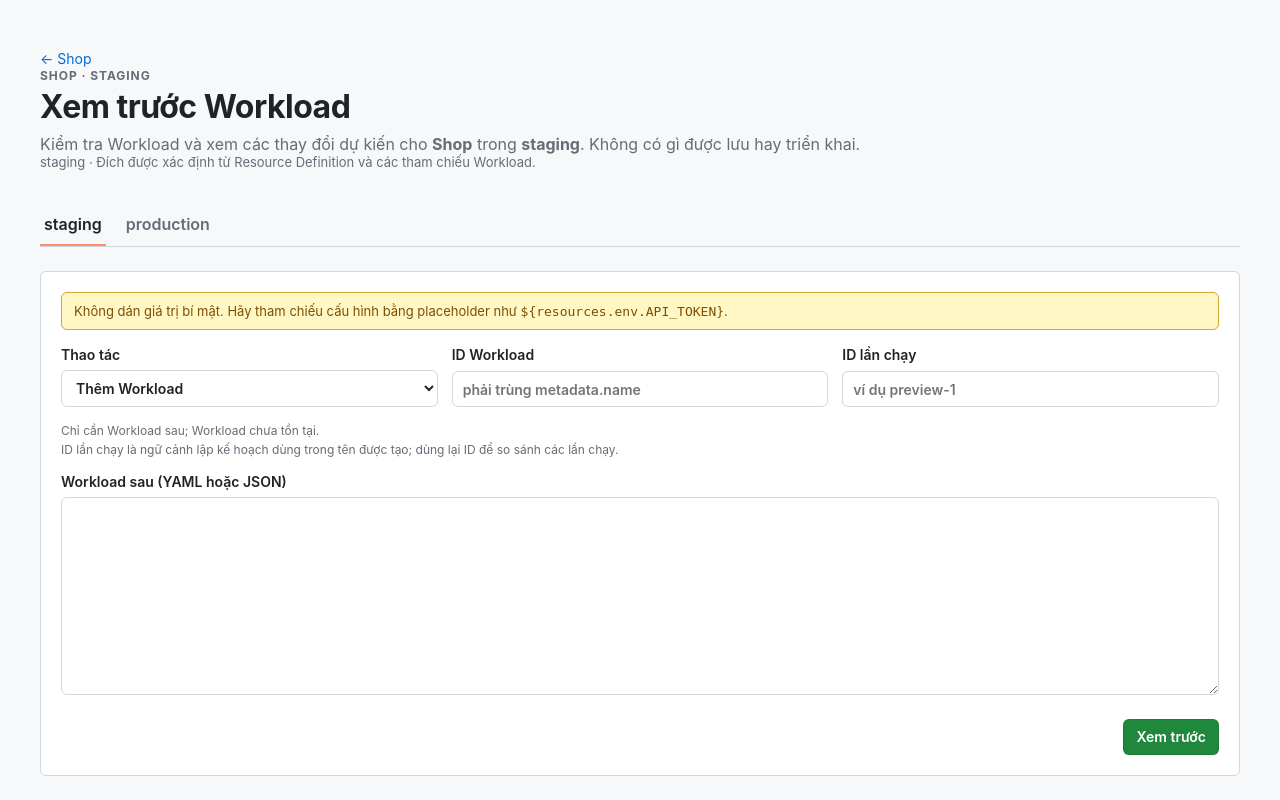
it: keeps input and blocks the request on local validation errors
This screenshot has width=1280, height=800.
Select "Cập nhật Workload" in the dropdown labelled "Thao tác" at [249, 388], box [61, 370, 438, 407]
(page scrolled)
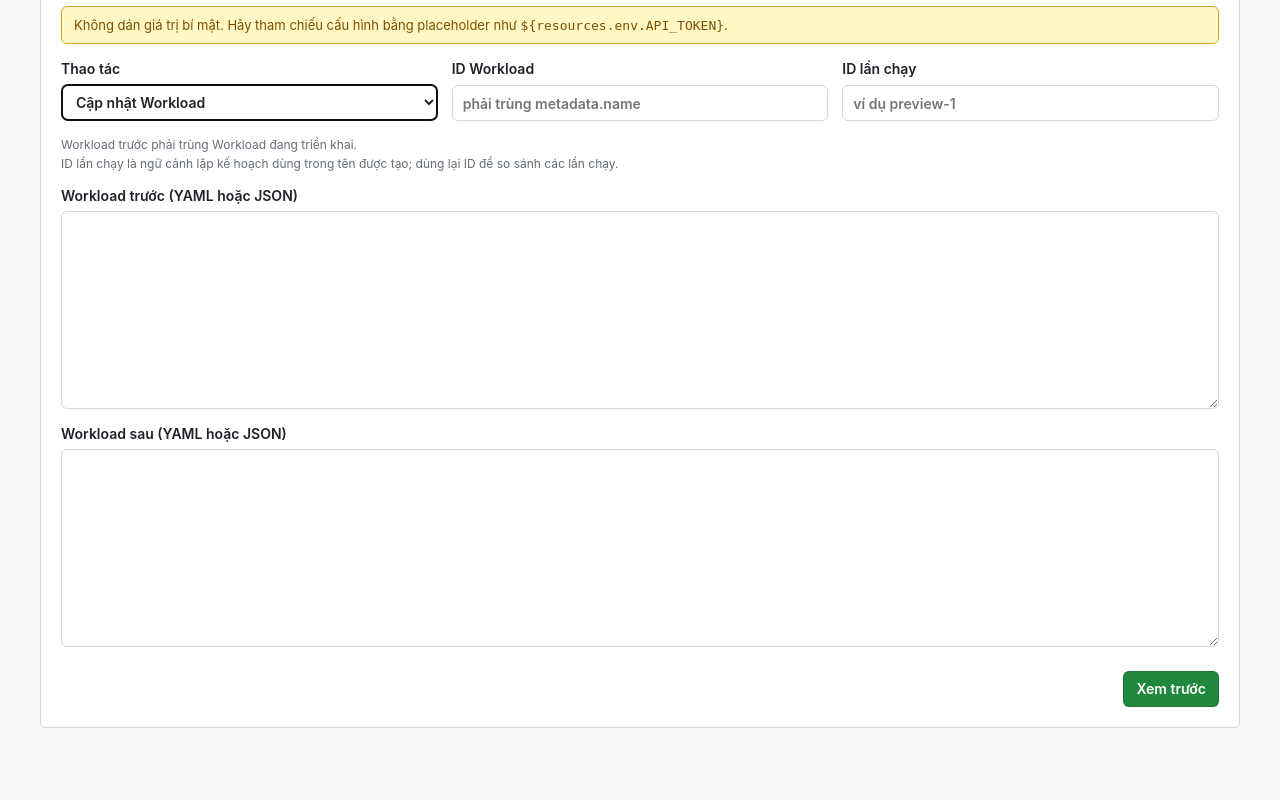
Type "containers: [" into the text box labelled "Workload sau (YAML hoặc JSON)".
click(640, 548); type("containers: [")  # box [61, 449, 1219, 647]
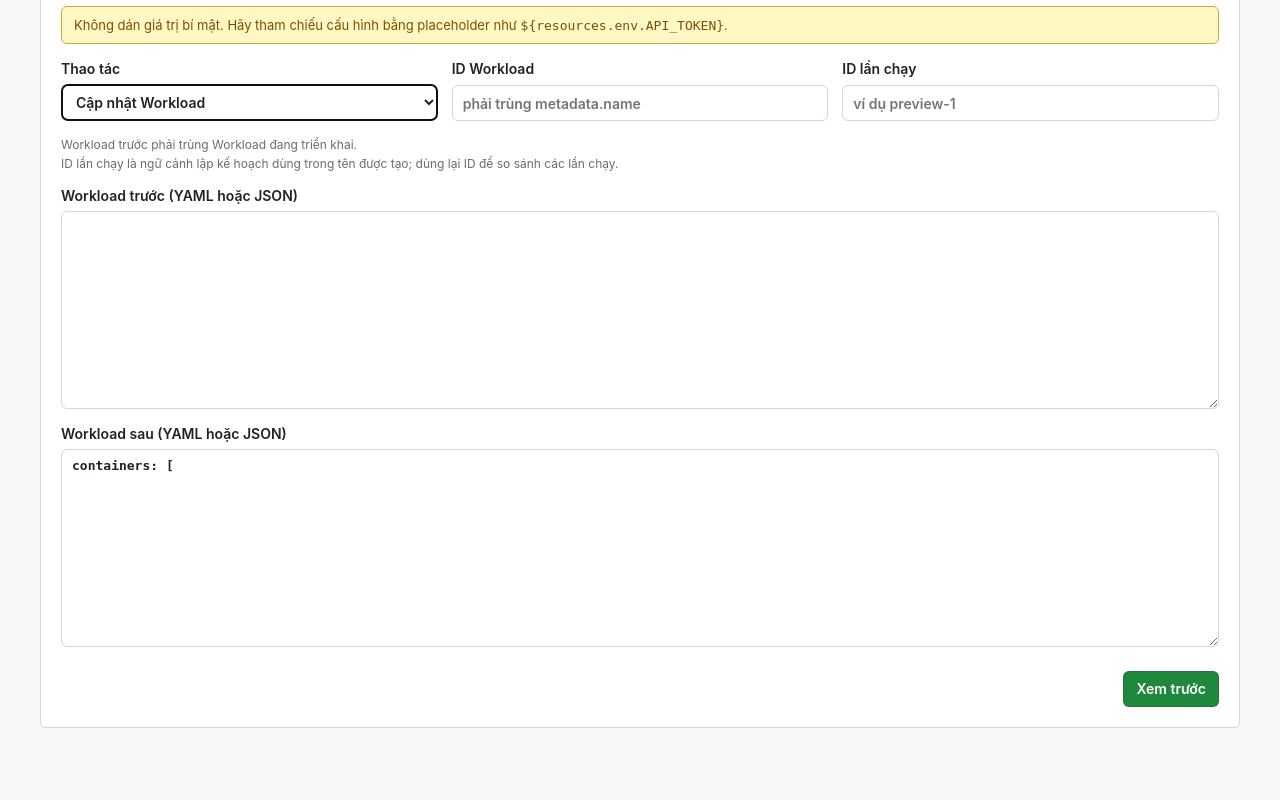
Click the button "Xem trước".
click(1171, 689)  # box [1123, 671, 1219, 707]
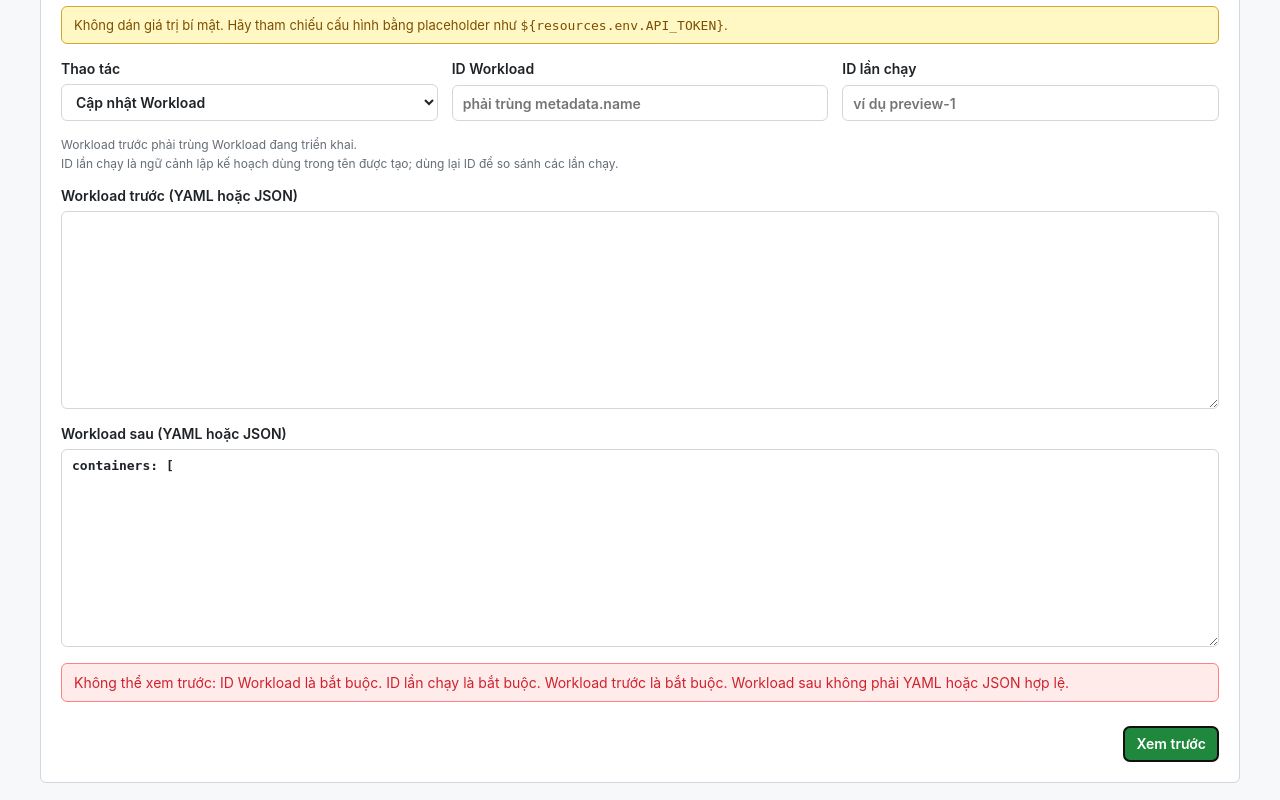
Result: the message shows "ID Workload là bắt buộc." at [220, 674, 1069, 691]
Result: the message shows "ID lần chạy là bắt buộc." at [220, 674, 1069, 691]
Result: the message shows "Workload trước là bắt buộc." at [220, 674, 1069, 691]
